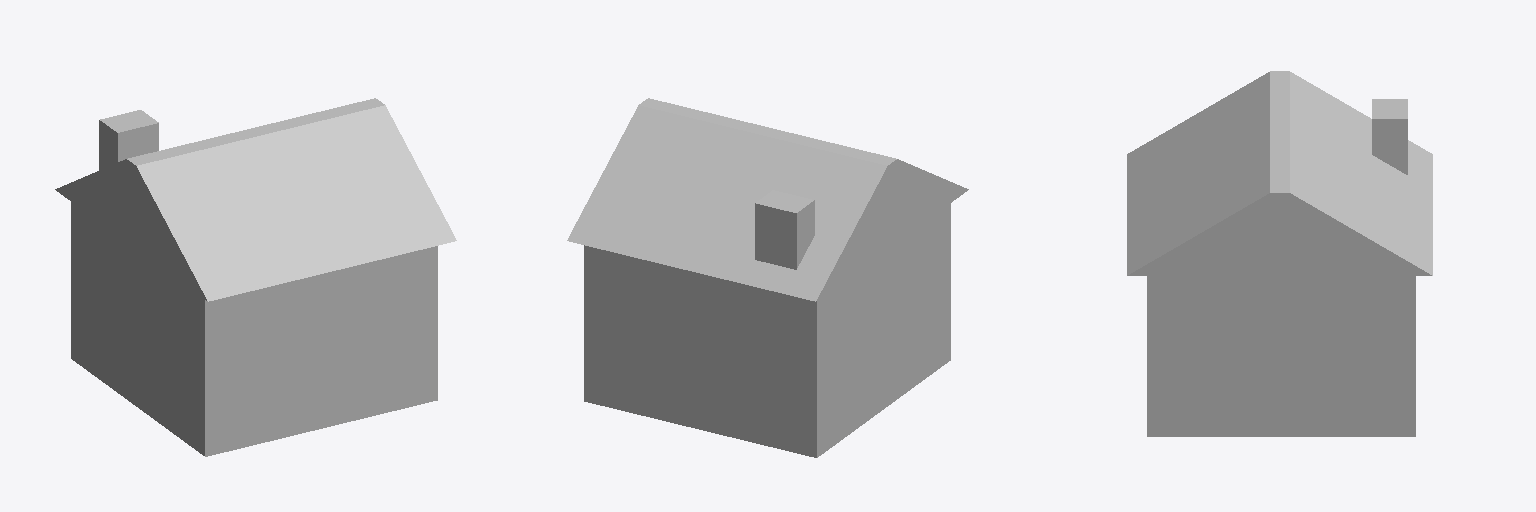
The model's file is house.obj.
3 renders of one model, left to right at view 1: azimuth 30°, elevation 25°; view 2: azimuth 150°, elevation 25°; view 3: azimuth 270°, elevation 25°, orthographic.
Visible parts, largest first — view 1: Cube, Cube.001, Cube.002; view 2: Cube, Cube.001, Cube.002; view 3: Cube.001, Cube, Cube.002.
Boxes of the visible parts, x1=… form: Cube: x1=71, y1=202, x2=437, y2=456; Cube.001: x1=55, y1=98, x2=456, y2=301; Cube.002: x1=99, y1=110, x2=158, y2=169; Cube: x1=584, y1=203, x2=950, y2=457; Cube.001: x1=567, y1=98, x2=968, y2=301; Cube.002: x1=755, y1=190, x2=814, y2=269; Cube.001: x1=1127, y1=71, x2=1432, y2=275; Cube: x1=1147, y1=276, x2=1415, y2=436; Cube.002: x1=1372, y1=99, x2=1407, y2=174.
Size of the model in its own units: 2.14 by 2.04 by 2.28.